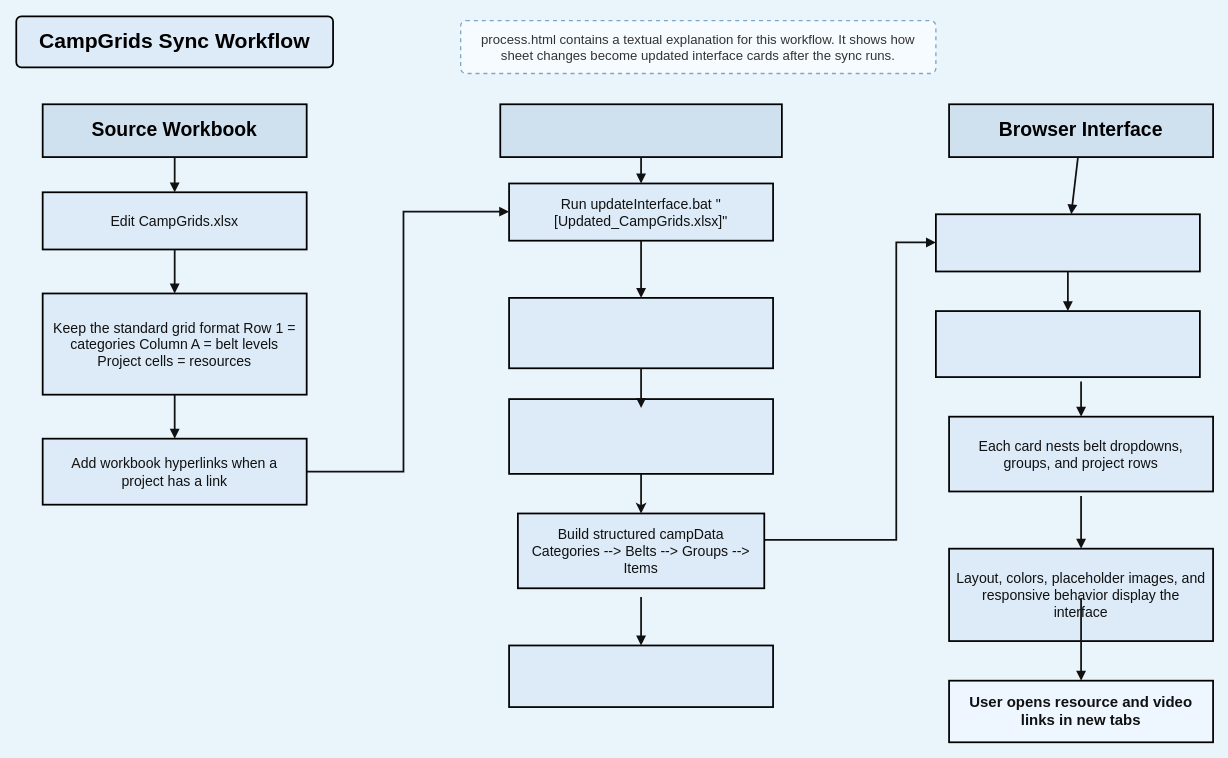
Image size: 1228x758. Some labels were removed from this diagram. Each missing label, with the box of its shape:
Automation Generator: (499, 103, 782, 158)
generateCampgrids.py opens the workbook as ZIP/XML: (508, 297, 774, 369)
Open or refresh index.html: (935, 213, 1200, 272)
Read worksheet XML, shared strings, and hyperlink relationships: (508, 398, 774, 474)
Replace the generated campData block in script.js: (508, 644, 774, 708)
script.js creates quick links and category cards: (935, 310, 1200, 378)
